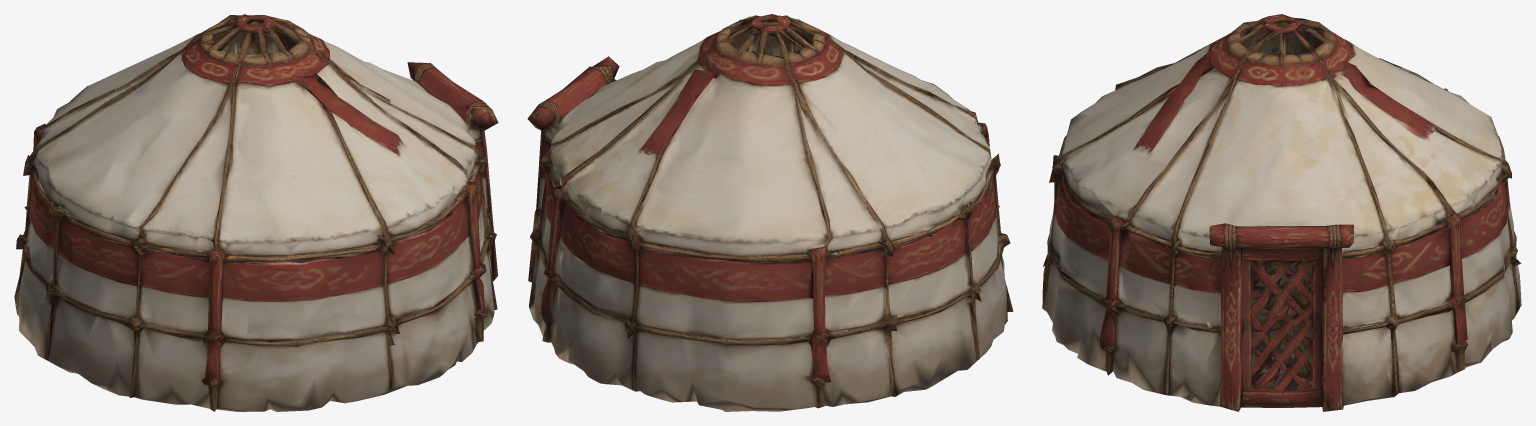
Rendered from yurt-tripo.glb.
3 views of the same model, side by side, from view 1: azimuth 30°, elevation 25°; view 2: azimuth 150°, elevation 25°; view 3: azimuth 270°, elevation 25° (orthographic).
Visible parts, largest first — view 1: tripo_node_fd393bc8-bc5d-4382-bd7e-b9e886793576; view 2: tripo_node_fd393bc8-bc5d-4382-bd7e-b9e886793576; view 3: tripo_node_fd393bc8-bc5d-4382-bd7e-b9e886793576.
Boxes of the visible parts, x1,y1,x2,y2 form: tripo_node_fd393bc8-bc5d-4382-bd7e-b9e886793576: [14, 14, 498, 411]; tripo_node_fd393bc8-bc5d-4382-bd7e-b9e886793576: [527, 14, 1013, 411]; tripo_node_fd393bc8-bc5d-4382-bd7e-b9e886793576: [1042, 14, 1521, 411].
Bounding box in the file's own units: 1 × 0.6621 × 0.9944.
1 material, 1 textured.
